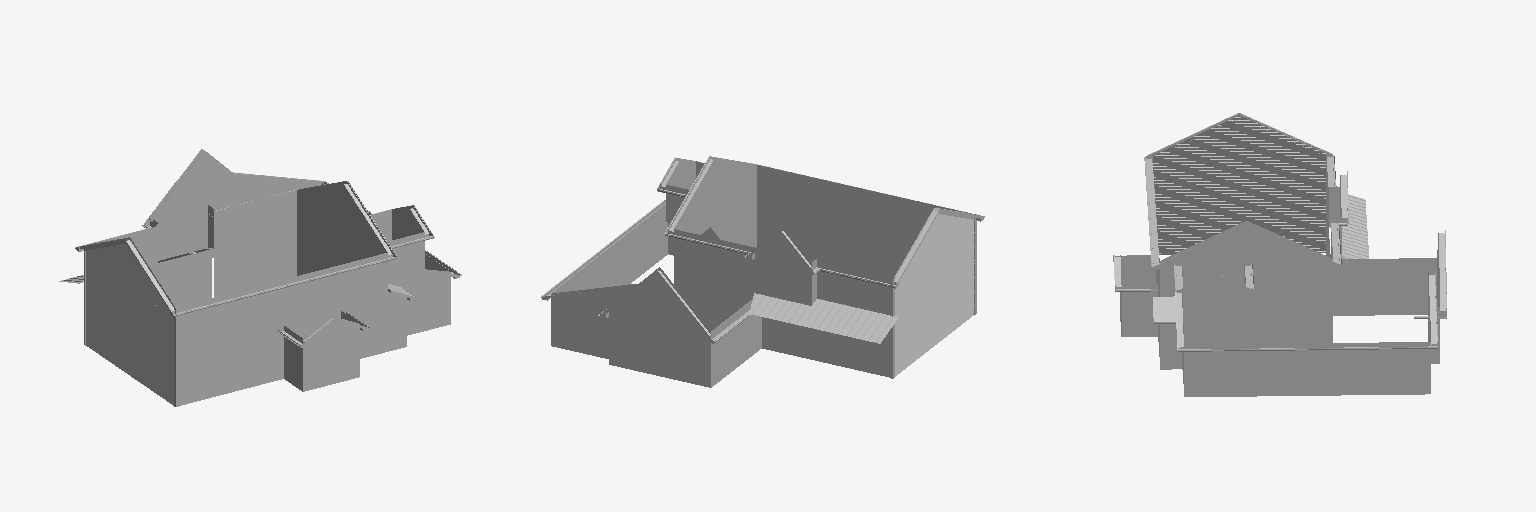
The model's file is shell.obj.
3 views of the same model, side by side, from view 1: azimuth 30°, elevation 25°; view 2: azimuth 150°, elevation 25°; view 3: azimuth 270°, elevation 25° (orthographic).
Parts seen in each view (by area): view 1: shell; view 2: shell; view 3: shell.
Part boxes in pixels (x1,y1,x2,y2): shell: (59,149,461,406); shell: (541,156,984,387); shell: (1113,113,1446,396).
Size of the model in its own units: 64.89 by 27.74 by 60.71.